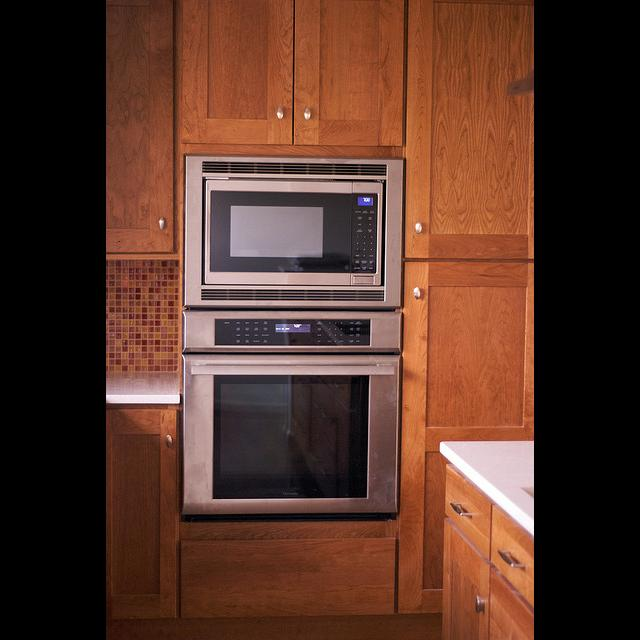Microwave: (185, 156, 406, 307)
